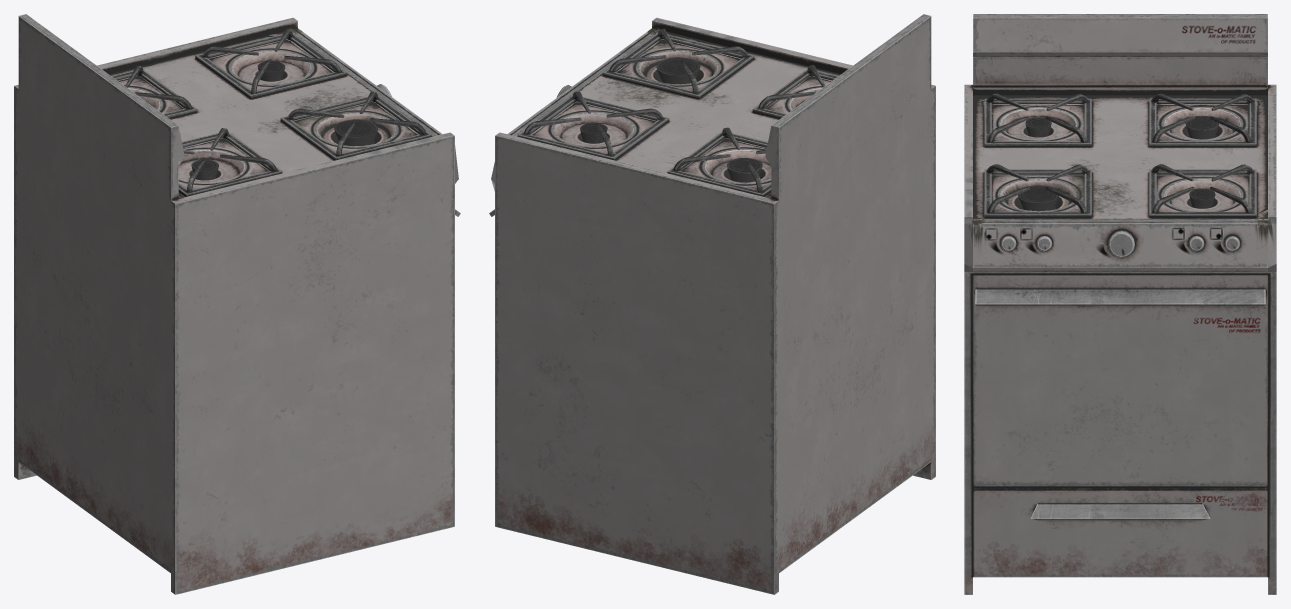
File: stove.glb
3 views of the same model, side by side, from view 1: azimuth 30°, elevation 25°; view 2: azimuth 150°, elevation 25°; view 3: azimuth 270°, elevation 25° (orthographic). The views are drawn at different scales.
Parts seen in each view (by area): view 1: Cube.002_Cube.001; view 2: Cube.002_Cube.001; view 3: Cube.002_Cube.001.
Boxes of the visible parts, x1=… form: Cube.002_Cube.001: x1=14, y1=14, x2=460, y2=594; Cube.002_Cube.001: x1=489, y1=14, x2=935, y2=594; Cube.002_Cube.001: x1=964, y1=14, x2=1276, y2=594.
Size of the model in its own units: 1.33 by 2 by 1.26.
Materials: 1 (1 with a texture image).
